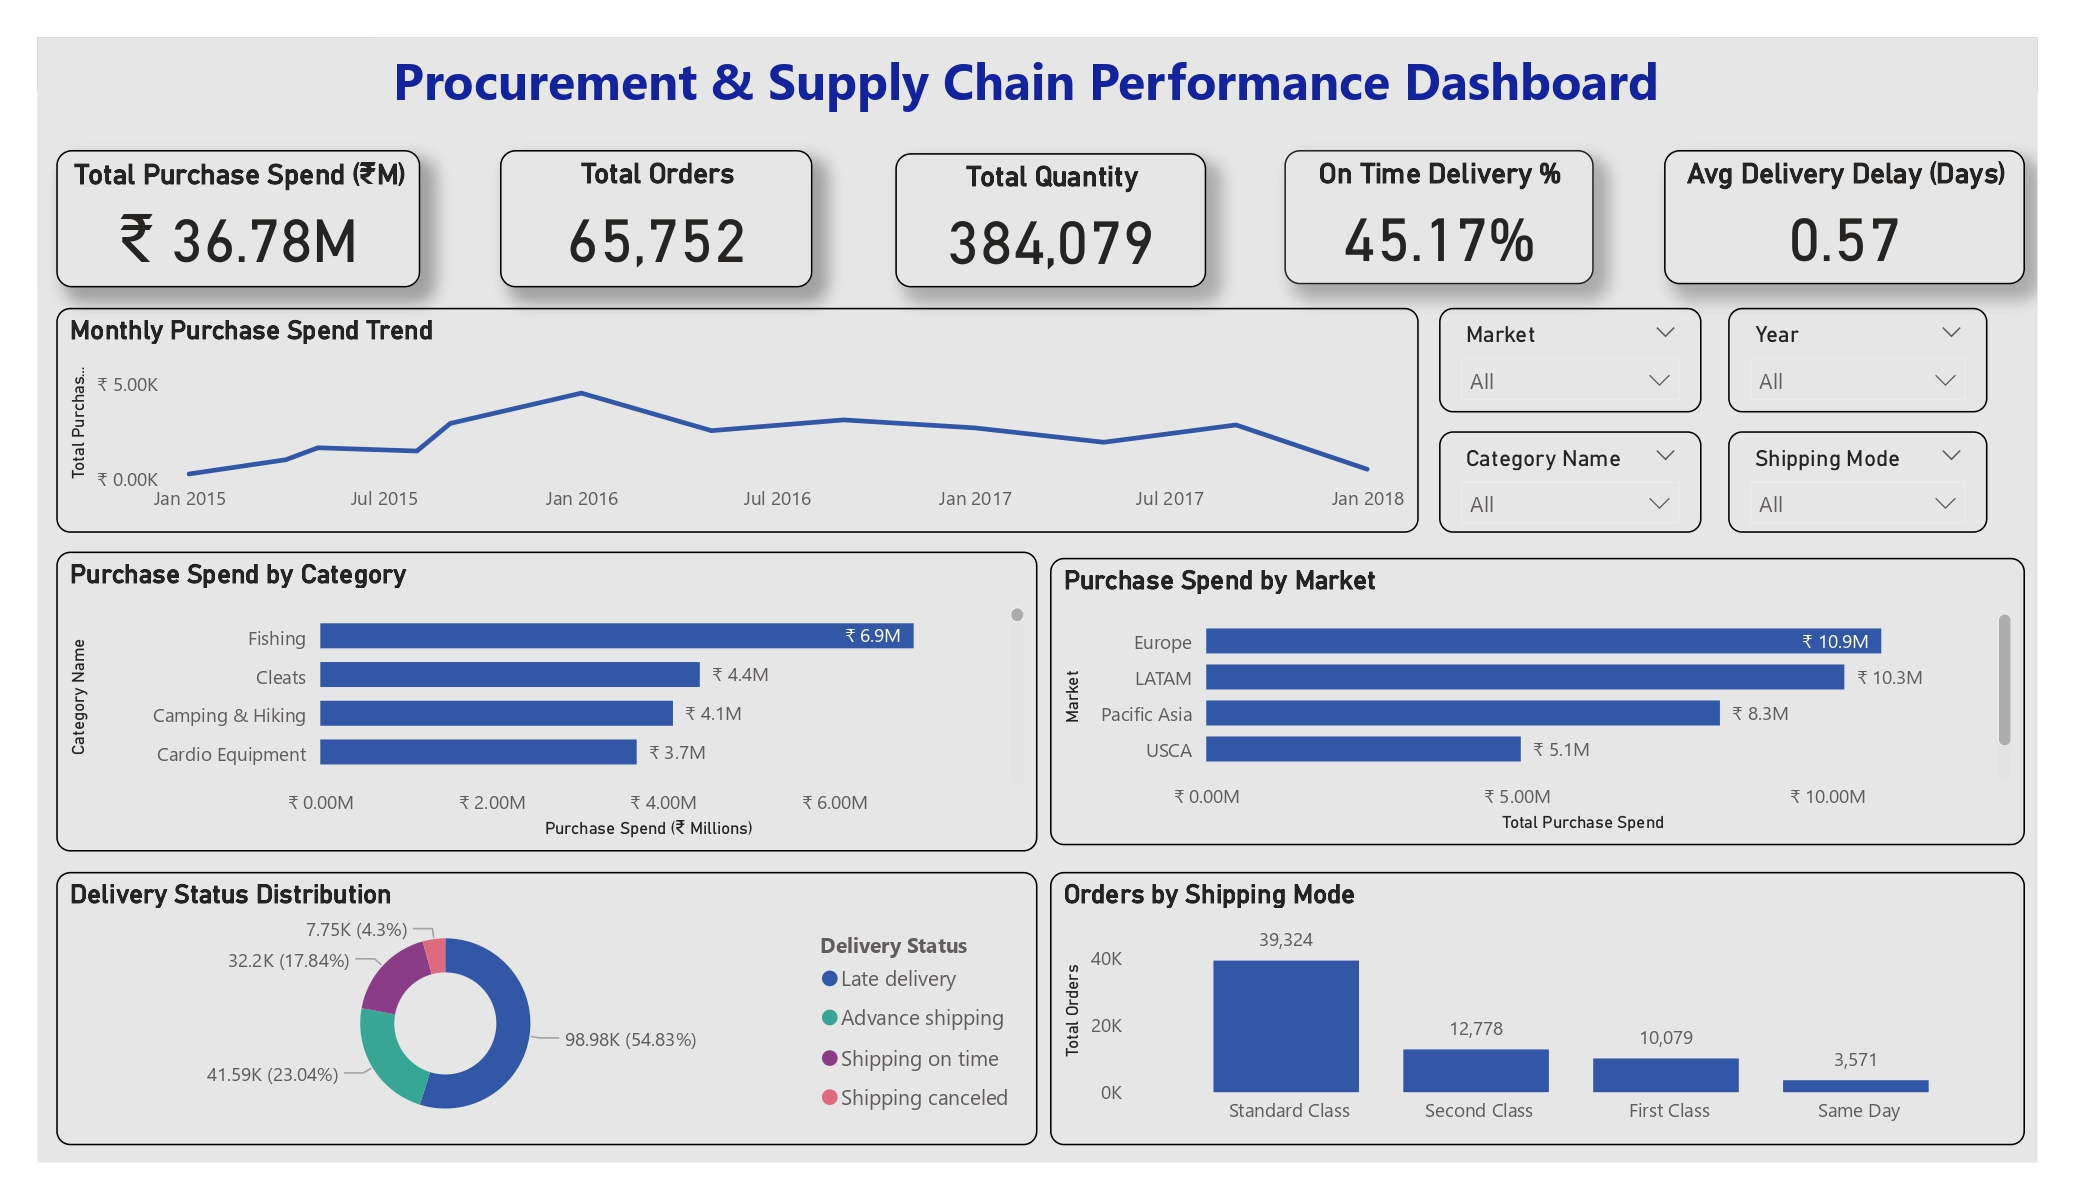

The page's visual inventory and layout, read from the dashboard file:
{"tool":"powerbi","page":{"name":"Dashboard","canvas":[1280,720],"ordinal":0},"visuals":[{"type":"textbox","box":[211.7,0,841.6,58.8],"z":0},{"type":"card","title":"Total Purchase Spend (₹M)","fields":{"Values":["Measures (2).Total Purchase Spend"]},"box":[11.8,72.2,233.5,87.3],"z":1000},{"type":"card","title":"Total Orders","fields":{"Values":["Measures (2).Total Orders"]},"box":[295.6,72.2,199.9,87.3],"z":2000},{"type":"card","title":"Total Quantity","fields":{"Values":["Measures (2).Total Quantity"]},"box":[549.3,73.9,198.2,85.7],"z":3000},{"type":"card","title":"On Time Delivery %","fields":{"Values":["Measures (2).On-Time Delivery %"]},"box":[797.9,72.2,198.2,85.7],"z":4000},{"type":"card","title":"Avg Delivery Delay (Days)","fields":{"Values":["Measures (2).Average Delivery Delay (Days)"]},"box":[1041.5,72.2,230.1,85.7],"z":5000},{"type":"donutChart","title":"Delivery Status Distribution","fields":{"Category":["Fact_Orders.Delivery Status"],"Y":["CountNonNull(Fact_Orders.Order Id)"]},"box":[11.8,534.2,628.2,174.7],"z":6000},{"type":"clusteredColumnChart","title":"Orders by Shipping Mode","fields":{"Category":["Fact_Orders.Shipping Mode"],"Y":["Measures (2).Total Orders"]},"box":[648.4,534.2,623.2,174.7],"z":7000},{"type":"clusteredBarChart","title":"Purchase Spend by Category","fields":{"Category":["Fact_Orders.Category Name"],"Y":["Measures (2).Total Purchase Spend"]},"box":[11.8,329.2,628.2,191.5],"z":8000},{"type":"clusteredBarChart","title":"Purchase Spend by Market","fields":{"Category":["Fact_Orders.Market"],"Y":["Measures (2).Total Purchase Spend"]},"box":[648.4,332.6,623.2,184.8],"z":9000},{"type":"lineChart","title":"Monthly Purchase Spend Trend","fields":{"Y":["Measures (2).Total Purchase Spend"],"Category":["Dim_Date.Month Start"]},"box":[11.8,173,871.8,144.5],"z":10000},{"type":"slicer","fields":{"Values":["Fact_Orders.Shipping Mode"]},"box":[1081.8,252,166.3,65.5],"z":11000},{"type":"slicer","fields":{"Values":["Dim_Date.Year"]},"box":[1081.8,173,166.3,67.2],"z":12000},{"type":"slicer","fields":{"Values":["Fact_Orders.Category Name"]},"box":[897,252,168,65.5],"z":13000},{"type":"slicer","fields":{"Values":["Fact_Orders.Market"]},"box":[897,173,168,67.2],"z":14000}]}

Visuals, with their boxes in screenshot pixels (x1, y1, x2, y2):
textbox: 375/43/1673/134
"Total Purchase Spend (₹M)" card: 67/155/427/289
"Total Orders" card: 504/155/813/289
"Total Quantity" card: 896/157/1201/289
"On Time Delivery %" card: 1279/155/1585/287
"Avg Delivery Delay (Days)" card: 1655/155/2009/287
"Delivery Status Distribution" donutChart: 67/867/1036/1136
"Orders by Shipping Mode" clusteredColumnChart: 1048/867/2009/1136
"Purchase Spend by Category" clusteredBarChart: 67/551/1036/846
"Purchase Spend by Market" clusteredBarChart: 1048/556/2009/841
"Monthly Purchase Spend Trend" lineChart: 67/310/1411/533
slicer - Fact_Orders.Shipping Mode: 1717/432/1973/533
slicer - Dim_Date.Year: 1717/310/1973/414
slicer - Fact_Orders.Category Name: 1432/432/1691/533
slicer - Fact_Orders.Market: 1432/310/1691/414
